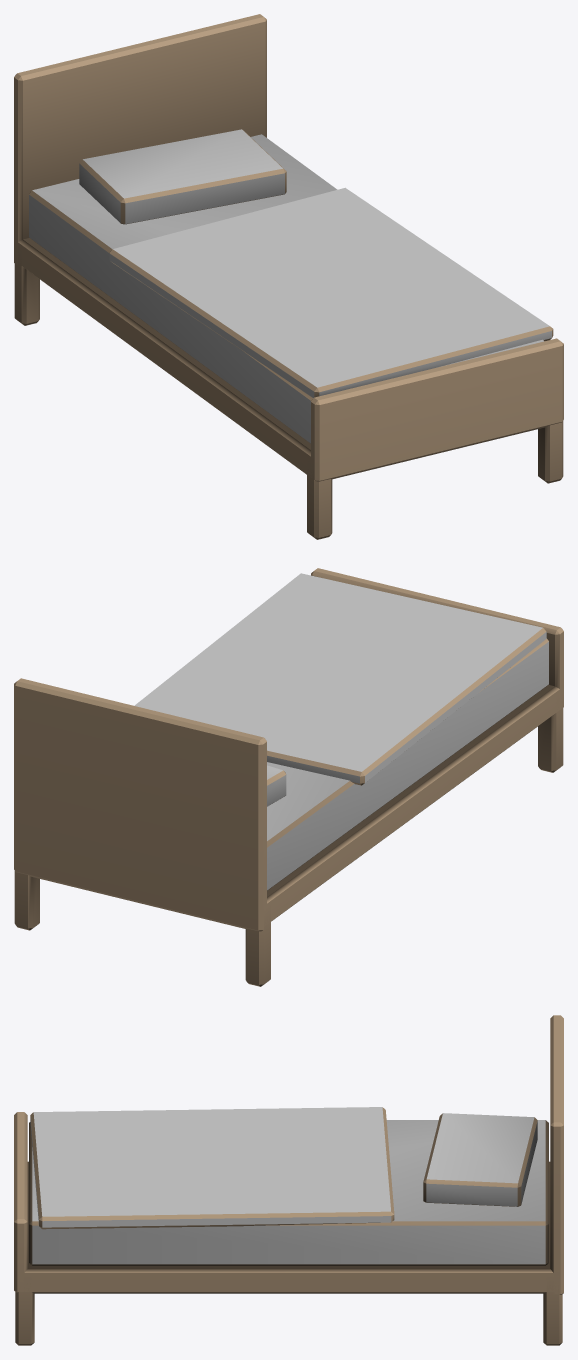
File: bed.glb
The picture shows the model from 3 angles, top to bottom: view 1: azimuth 30°, elevation 25°; view 2: azimuth 150°, elevation 25°; view 3: azimuth 270°, elevation 25°; orthographic projection. The views are drawn at different scales.
Visible parts, largest first — view 1: bed; view 2: bed; view 3: bed.
Part boxes in pixels (x1=…): bed: x1=14, y1=14, x2=563, y2=539; bed: x1=14, y1=568, x2=563, y2=986; bed: x1=14, y1=1015, x2=563, y2=1345.
Bounding box in the file's own units: 0.974 × 0.9 × 2.01.
